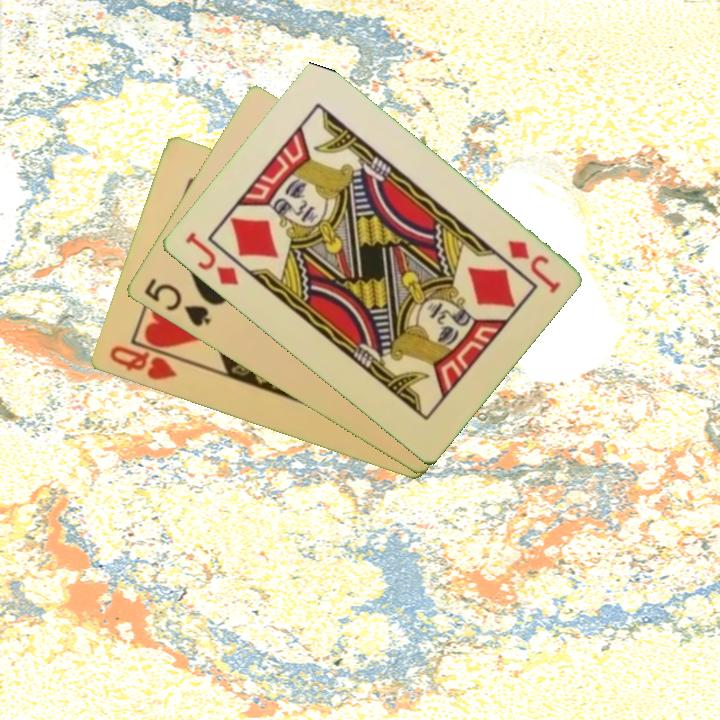5s: (139, 274, 213, 330)
Jd: (181, 228, 241, 289), (503, 236, 563, 297)
Qh: (105, 342, 180, 384)
